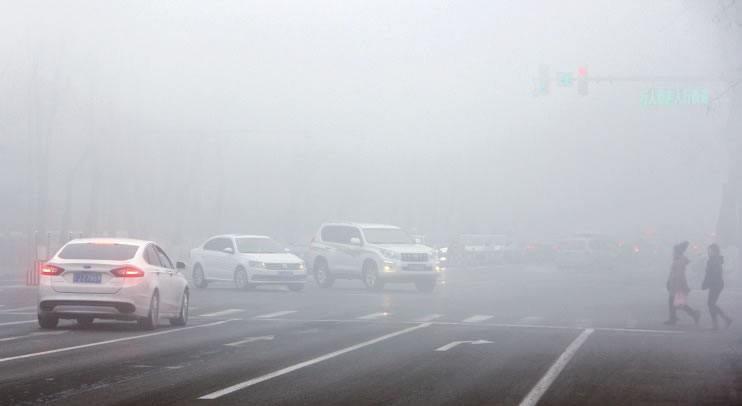person: (664, 241, 700, 327), (702, 243, 732, 330)
